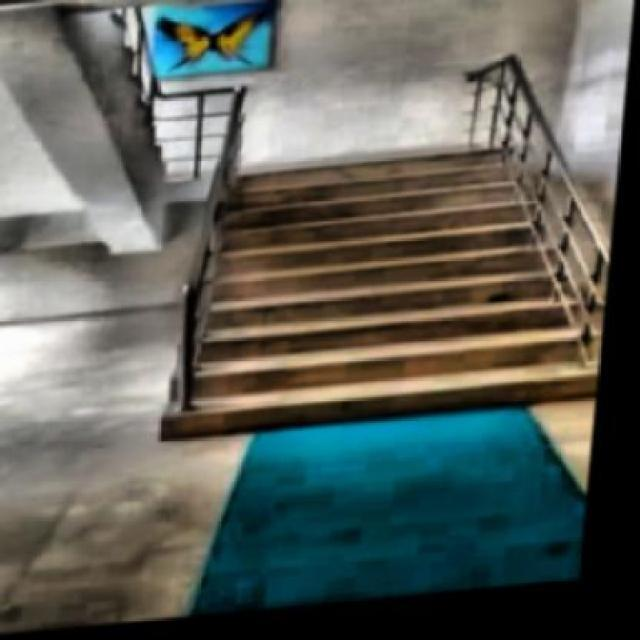stair: (165, 152, 623, 443)
